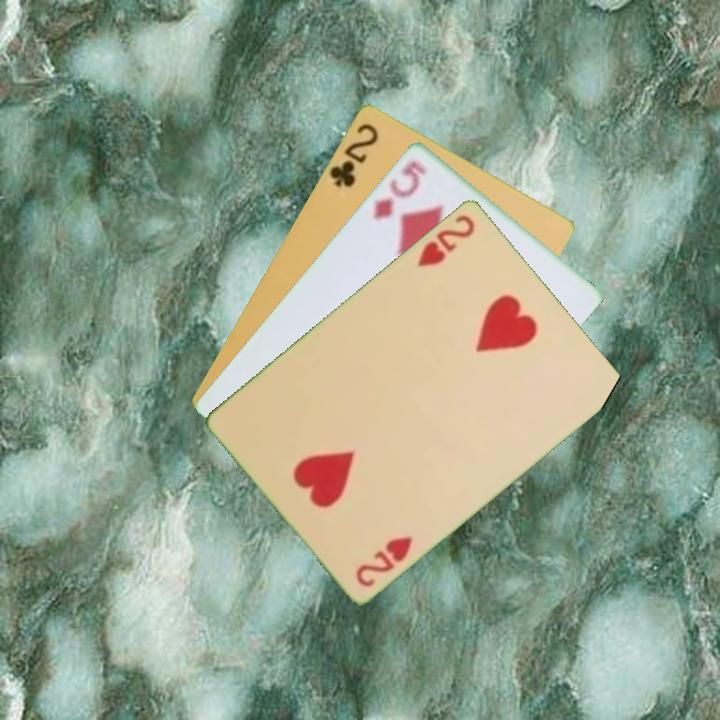2c: (325, 119, 382, 190)
2h: (413, 210, 478, 270), (352, 532, 416, 590)
5d: (369, 157, 429, 221)
